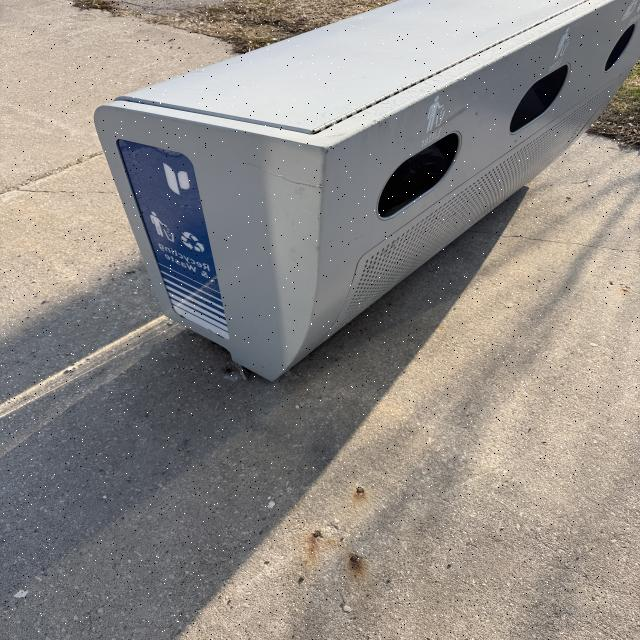Dustbin: (92, 0, 640, 385)
